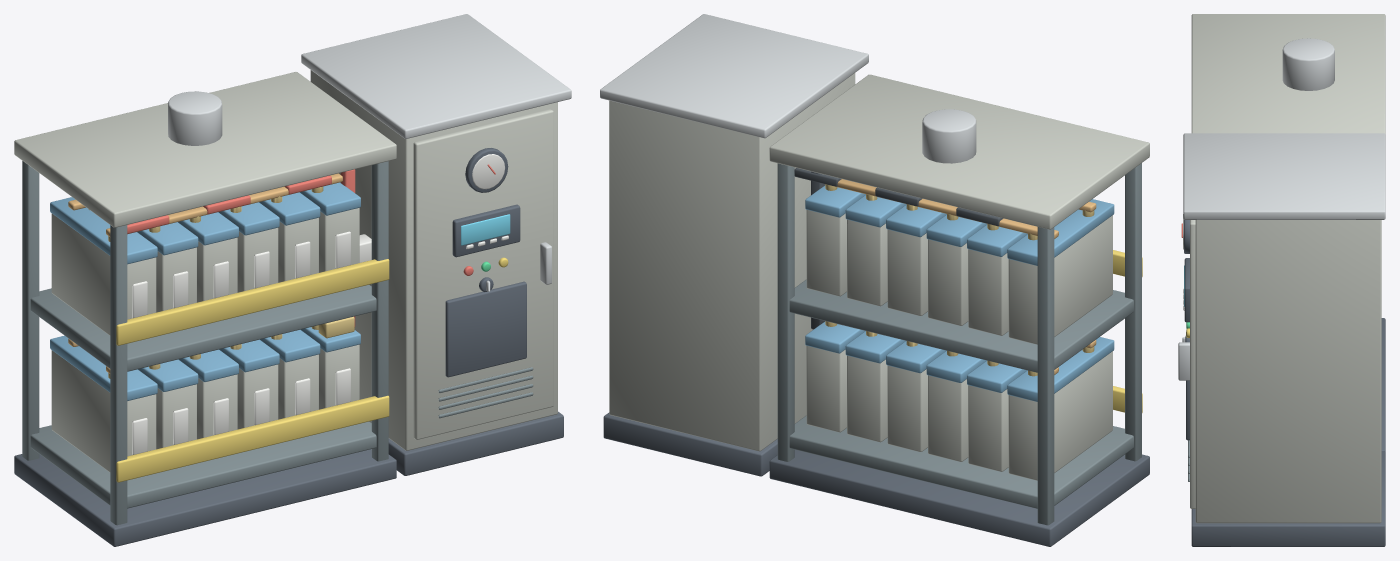
File: battery_system.glb
3 views of the same model, side by side, from view 1: azimuth 30°, elevation 25°; view 2: azimuth 150°, elevation 25°; view 3: azimuth 270°, elevation 25° (orthographic). The views are drawn at different scales.
Visible parts, largest first — view 1: Charger_Cabinet__PebbleGrey, Battery_Rack_Frame__Iron, Battery_Rack_Frame__PebbleGrey, Battery_Cell_01_12, Charger_Cabinet__Steel, Battery_Cell_01_12__PhaseBlue, Battery_Rack_Frame__SafetyYellow, Battery_Rack_Frame, Charger_Cabinet, Battery_Cell_01_12__WhiteDial, Battery_Rack_Frame__Steel, Charger_Cabinet__Iron (+5 smaller); view 2: Charger_Cabinet__PebbleGrey, Battery_Cell_01_12, Battery_Rack_Frame__Iron, Battery_Rack_Frame__PebbleGrey, Charger_Cabinet__Steel, Battery_Cell_01_12__PhaseBlue, Battery_Rack_Frame, Charger_Cabinet, Battery_Rack_Frame__Steel, DC_Busbar_Negative__CableBlack, DC_Busbar_Negative, Battery_Cell_01_12__GoldBrass; view 3: Charger_Cabinet__PebbleGrey, Battery_Rack_Frame__PebbleGrey, Charger_Cabinet__Steel, Charger_Cabinet, Battery_Rack_Frame__Steel, Battery_Rack_Frame.
Part boxes in pixels (box(x1,y1,x2,y2)): Charger_Cabinet__PebbleGrey: box(310, 70, 557, 450); Battery_Rack_Frame__Iron: box(22, 161, 388, 525); Battery_Rack_Frame__PebbleGrey: box(14, 72, 396, 227); Battery_Cell_01_12: box(51, 208, 359, 472); Charger_Cabinet__Steel: box(301, 14, 571, 291); Battery_Cell_01_12__PhaseBlue: box(50, 182, 360, 400); Battery_Rack_Frame__SafetyYellow: box(116, 259, 389, 482); Battery_Rack_Frame: box(14, 449, 396, 546); Charger_Cabinet: box(388, 204, 563, 475); Battery_Cell_01_12__WhiteDial: box(132, 231, 350, 454); Battery_Rack_Frame__Steel: box(168, 91, 222, 145); Charger_Cabinet__Iron: box(438, 367, 533, 418); Charger_Cabinet__PebbleGrey: box(609, 73, 855, 451); Battery_Cell_01_12: box(806, 210, 1112, 480); Battery_Rack_Frame__Iron: box(777, 163, 1141, 525); Battery_Rack_Frame__PebbleGrey: box(769, 74, 1149, 229); Charger_Cabinet__Steel: box(600, 14, 868, 138); Battery_Cell_01_12__PhaseBlue: box(805, 185, 1114, 401); Battery_Rack_Frame: box(769, 449, 1149, 546); Charger_Cabinet: box(603, 412, 777, 476); Battery_Rack_Frame__Steel: box(922, 109, 976, 163); DC_Busbar_Negative__CableBlack: box(794, 168, 1003, 329); DC_Busbar_Negative: box(826, 179, 1058, 374); Battery_Cell_01_12__GoldBrass: box(825, 184, 1094, 376); Charger_Cabinet__PebbleGrey: box(1190, 220, 1381, 523); Battery_Rack_Frame__PebbleGrey: box(1191, 14, 1385, 134); Charger_Cabinet__Steel: box(1178, 133, 1385, 380); Charger_Cabinet: box(1184, 258, 1385, 546); Battery_Rack_Frame__Steel: box(1282, 38, 1334, 90); Battery_Rack_Frame: box(1381, 318, 1385, 451).
Size of the model in its own units: 1.25 by 0.965 by 0.5125.
